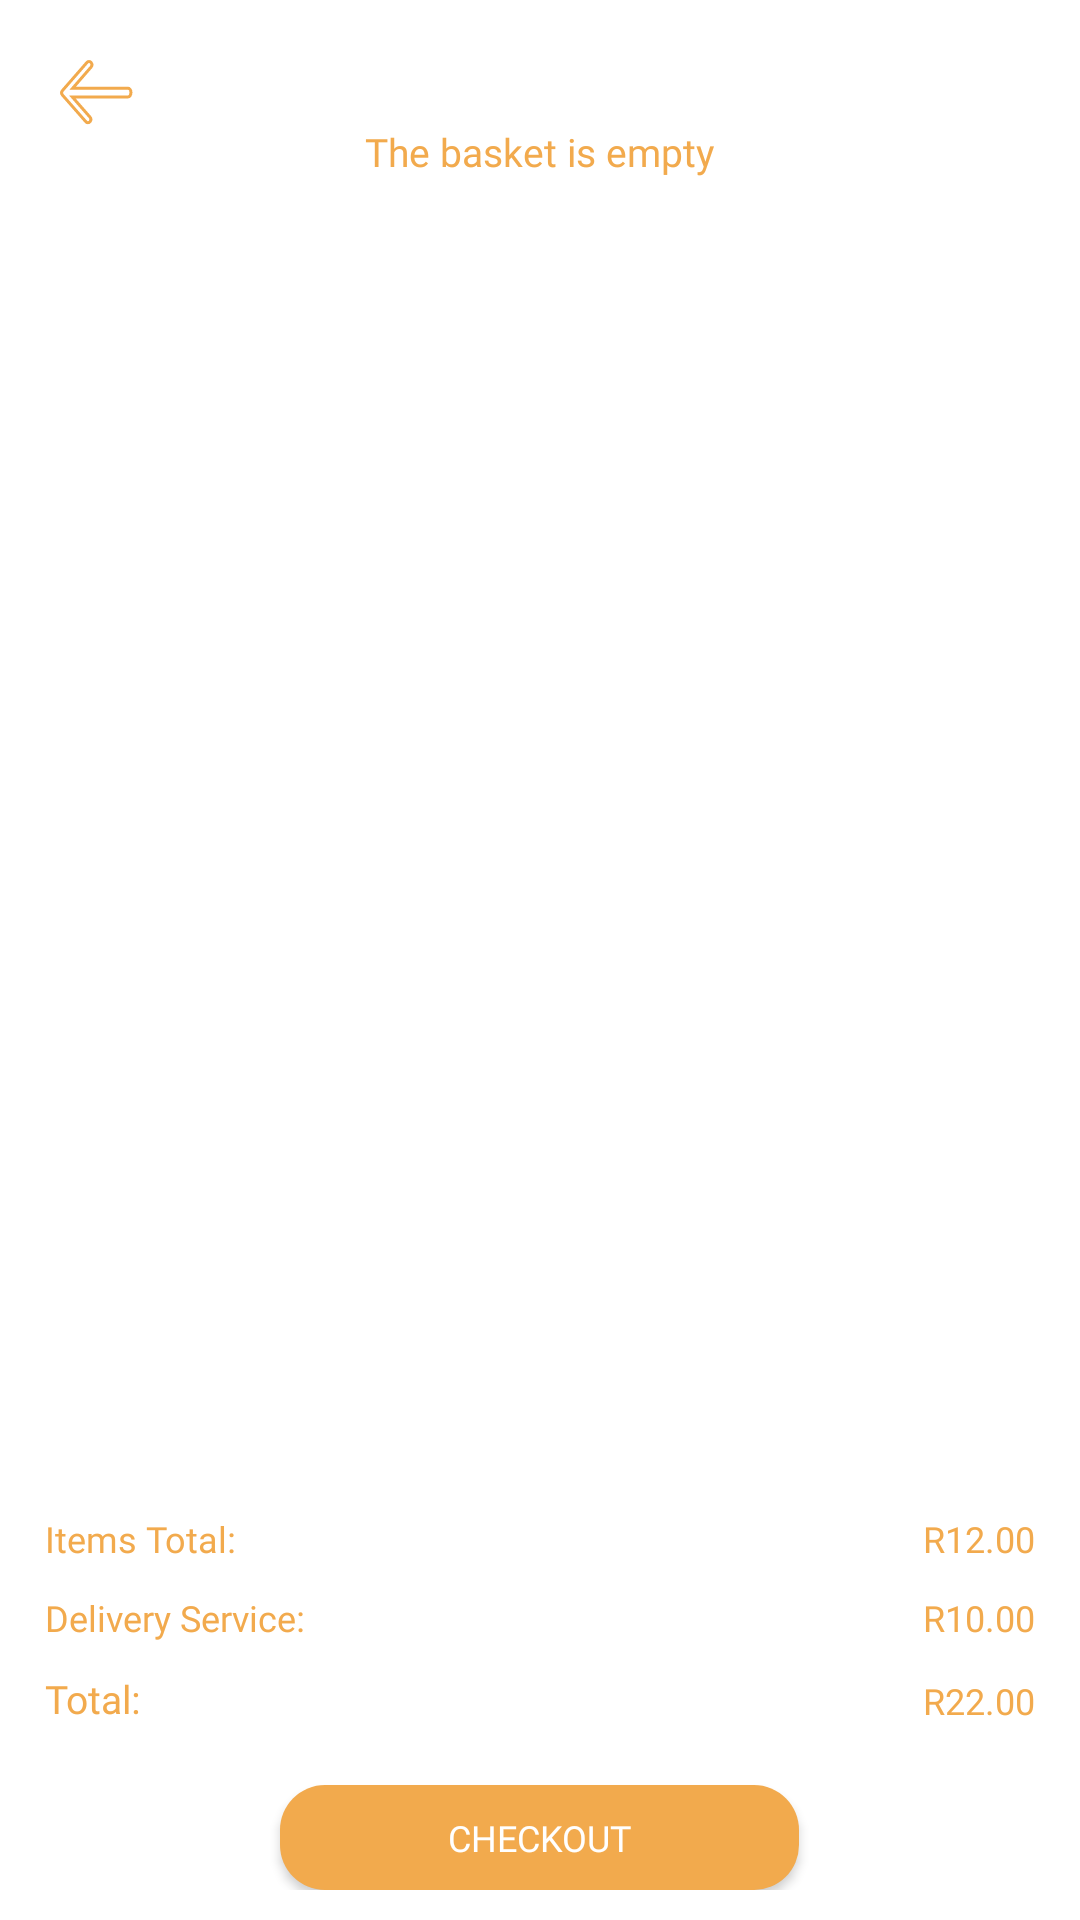

Where to tap for icons on this 1080×1920 app screen, as [x,y]:
back: [96,92]
